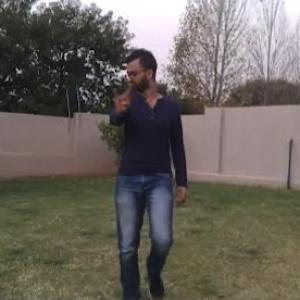takeoff-hand: (108, 71, 134, 116)
